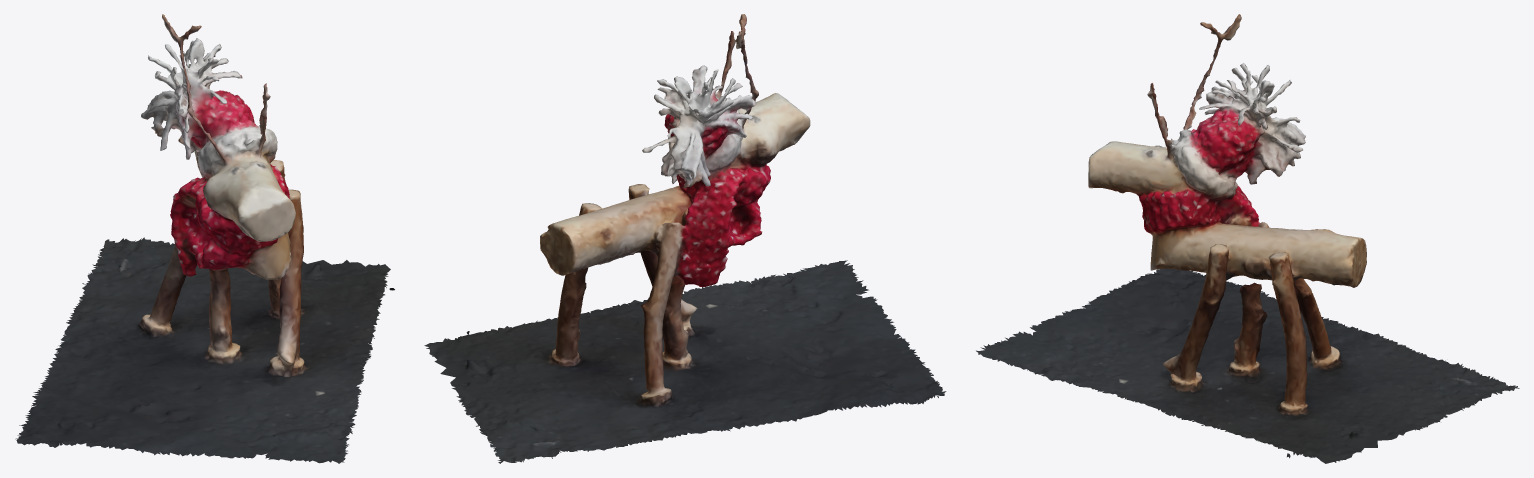
The model's file is asset.glb.
3 renders of one model, left to right at view 1: azimuth 30°, elevation 25°; view 2: azimuth 150°, elevation 25°; view 3: azimuth 270°, elevation 25°, orthographic. The views are drawn at different scales.
Visible parts, largest first — view 1: Mesh_0_Part_0; view 2: Mesh_0_Part_0; view 3: Mesh_0_Part_0.
Boxes of the visible parts, <box> form: Mesh_0_Part_0: <box>15,14,394,463</box>; Mesh_0_Part_0: <box>424,14,946,463</box>; Mesh_0_Part_0: <box>976,14,1519,463</box>.
Size of the model in its own units: 38.43 by 29.44 by 43.54.
